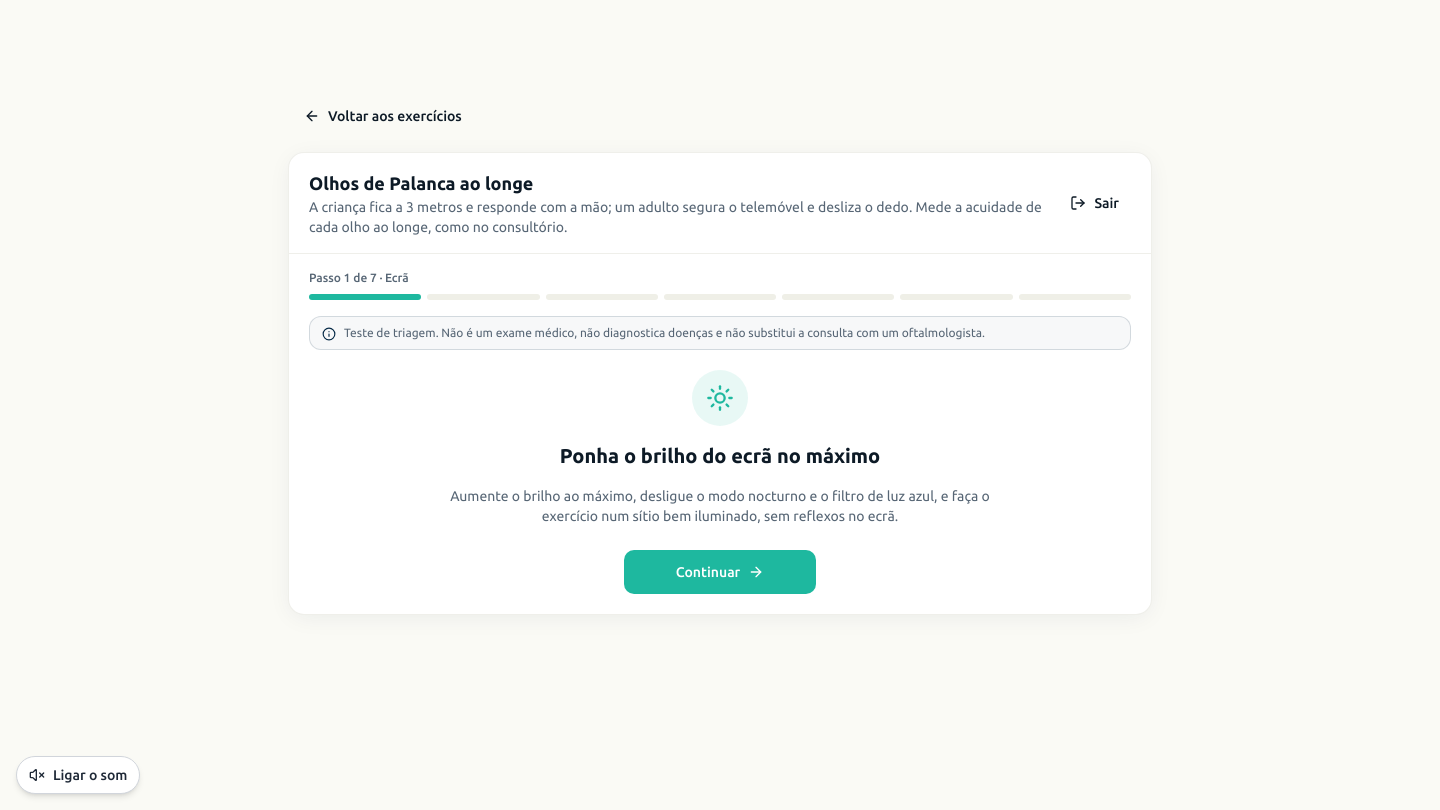
Test case: Teste de Acuidade (sem câmara) › nunca pede a câmara e mostra o aviso de triagem em cada passo
Check: the text "Teste de triagem. Não é um exame médico" is shown, box [344, 326, 985, 339]
Check: the heading "Ponha o brilho do ecrã no máximo" is shown, box [560, 442, 880, 470]
Click the button "Continuar".
click(720, 572)  # box [624, 550, 816, 594]
(page scrolled)
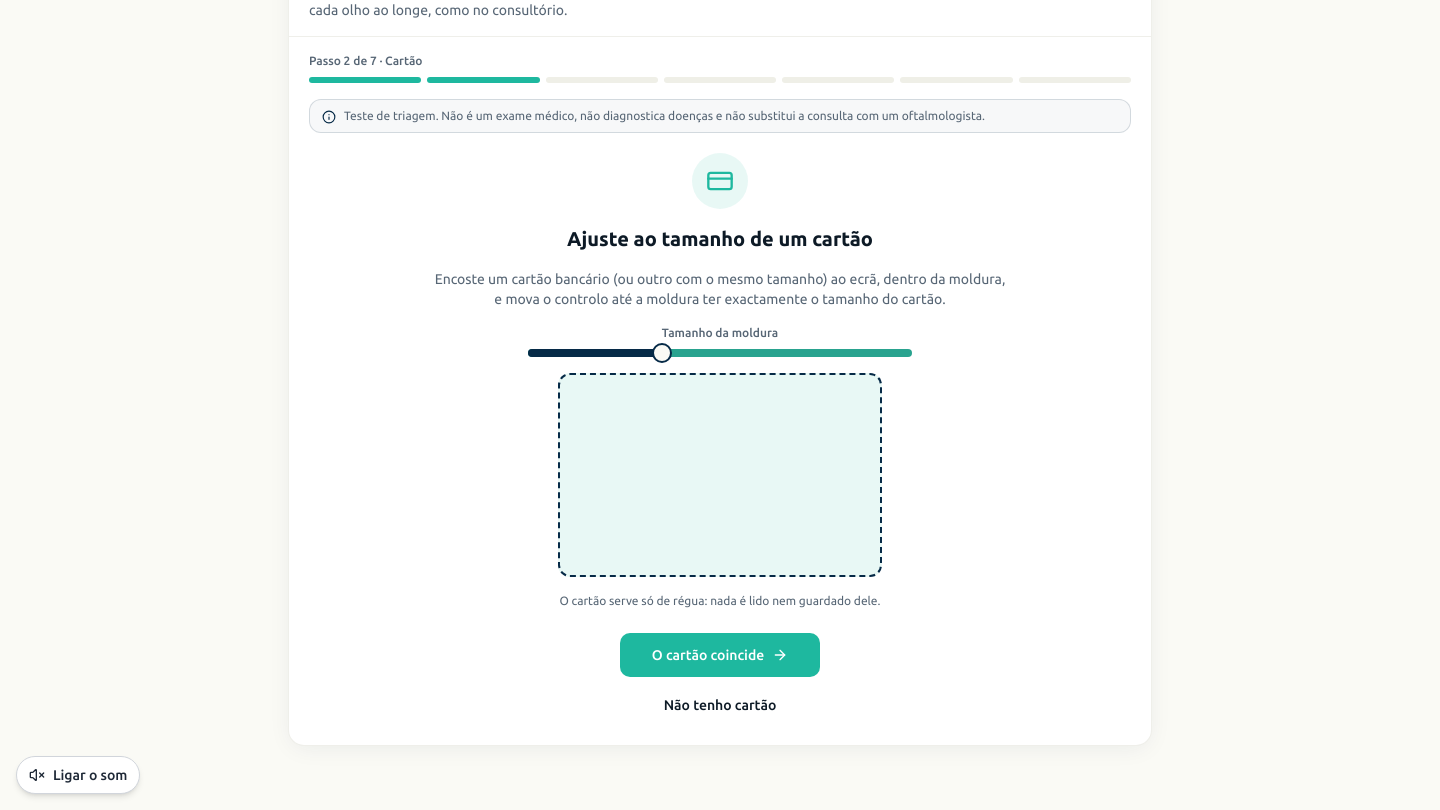
Check: the text "Teste de triagem. Não é um exame médico" is shown, box [344, 109, 985, 122]
Check: the heading "Ajuste ao tamanho de um cartão" is shown, box [567, 225, 873, 253]
Click the button "Não tenho cartão".
click(720, 705)  # box [648, 685, 792, 725]
(page scrolled)
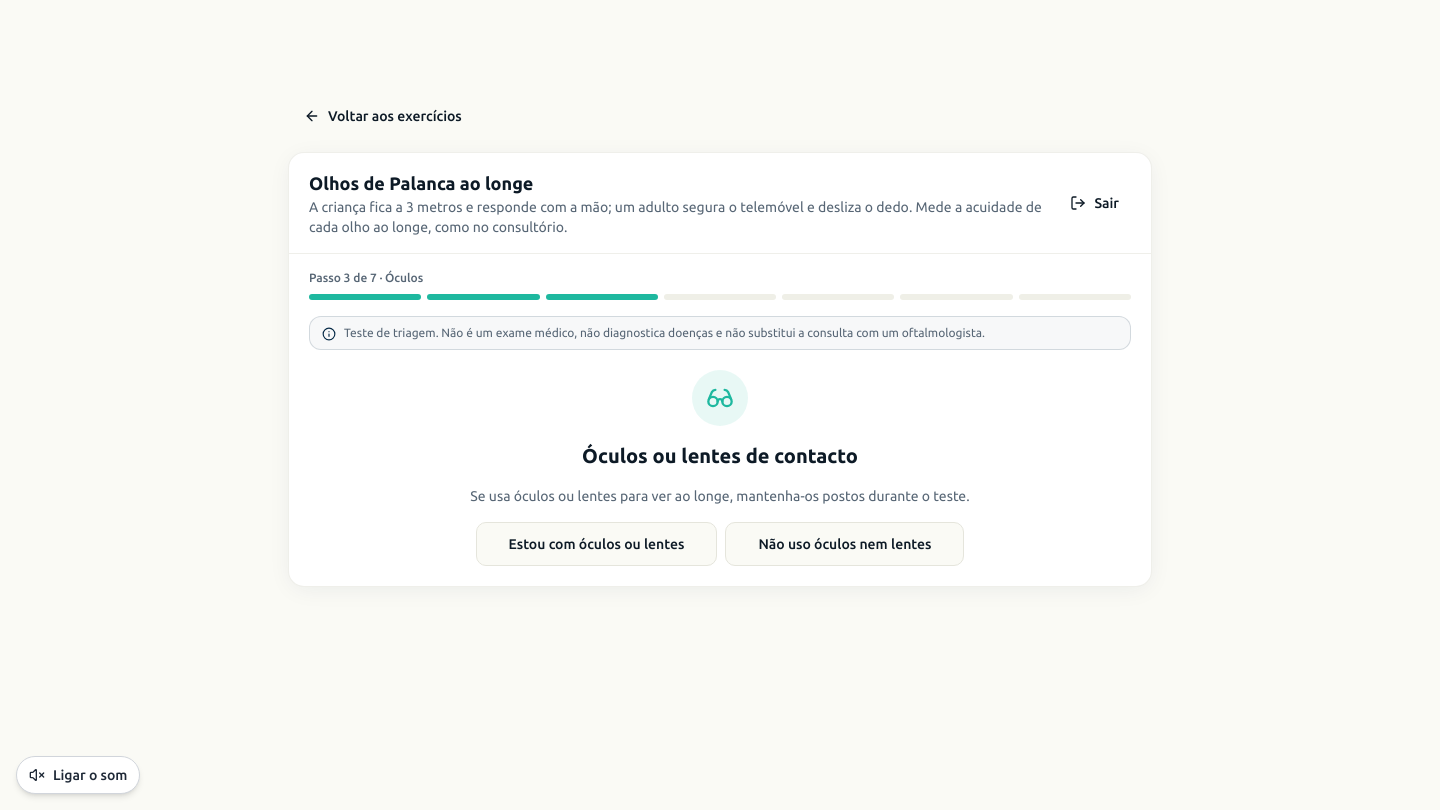
Check: the text "Teste de triagem. Não é um exame médico" is shown, box [344, 326, 985, 339]
Check: the heading "Óculos ou lentes de contacto" is shown, box [582, 442, 858, 470]
